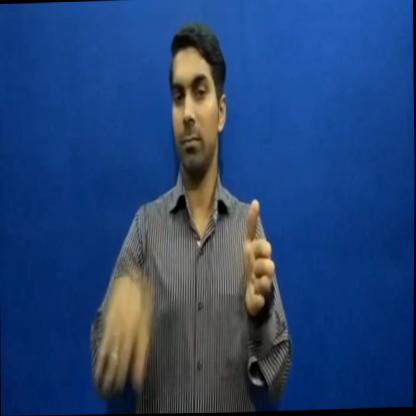Expensive: (75, 197, 312, 410)
